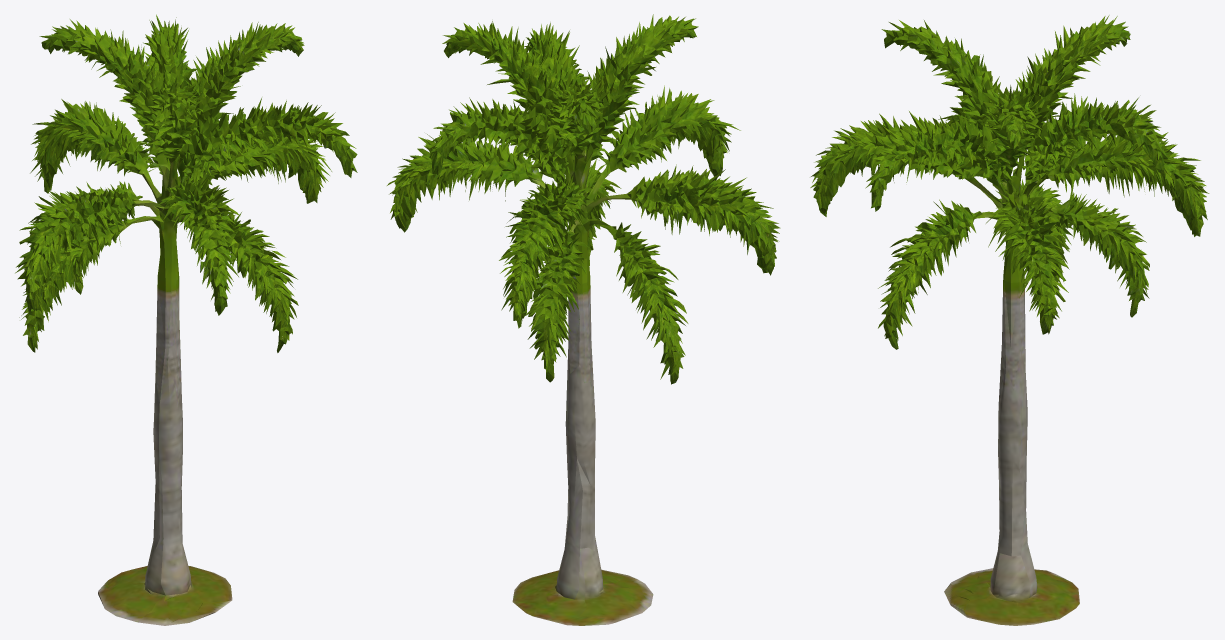
The model's file is w4foxpalm.glb.
The picture shows the model from 3 angles, left to right: view 1: azimuth 30°, elevation 25°; view 2: azimuth 150°, elevation 25°; view 3: azimuth 270°, elevation 25°; orthographic projection.
Visible parts, largest first — view 1: output_unwrapped; view 2: output_unwrapped; view 3: output_unwrapped.
Part boxes in pixels (<box>): output_unwrapped: <box>15,14,357,625</box>; output_unwrapped: <box>387,14,780,625</box>; output_unwrapped: <box>810,15,1209,625</box>.
Size of the model in its own units: 5.52 by 8.5 by 5.52.
Materials: 1 (1 with a texture image).
